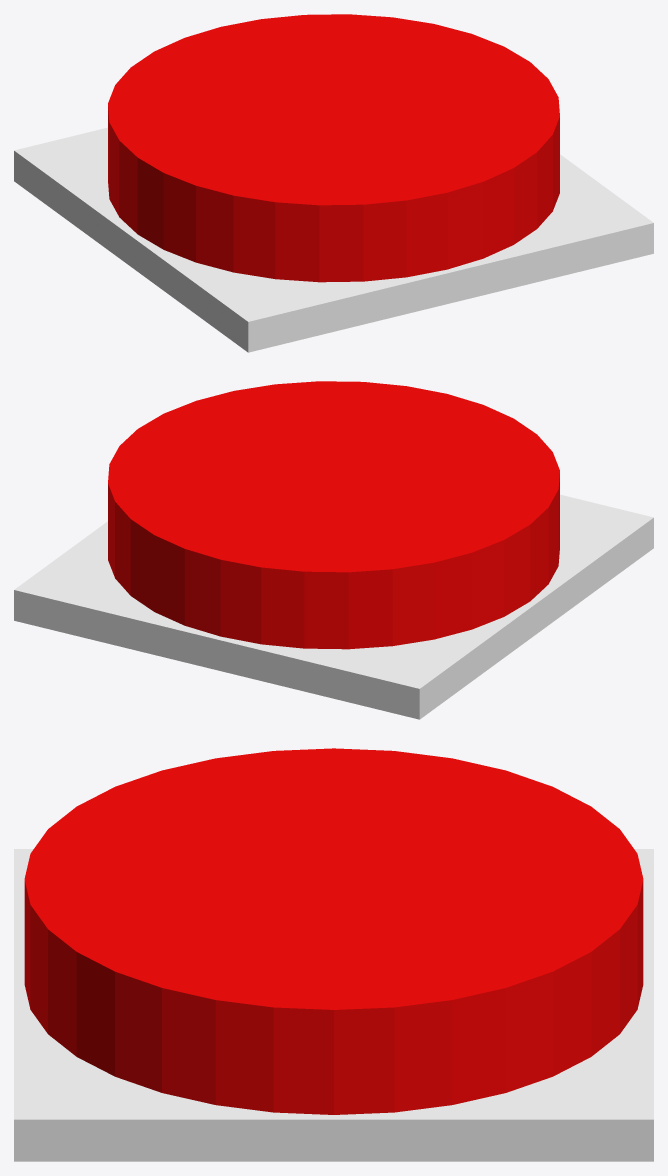
Rendered from Test Button used.fbx.
3 views of the same model, one above another, from view 1: azimuth 30°, elevation 25°; view 2: azimuth 150°, elevation 25°; view 3: azimuth 270°, elevation 25° (orthographic). The views are drawn at different scales.
Parts seen in each view (by area): view 1: Cylinder, Cube; view 2: Cylinder, Cube; view 3: Cylinder, Cube.
Part boxes in pixels (box(x1,y1,x2,y2)): Cylinder: box(108, 14, 559, 282); Cube: box(14, 127, 653, 352); Cylinder: box(108, 381, 559, 649); Cube: box(14, 494, 653, 719); Cylinder: box(24, 748, 643, 1114); Cube: box(14, 849, 653, 1161).
Size of the model in its own units: 365 by 92.62 by 365.
